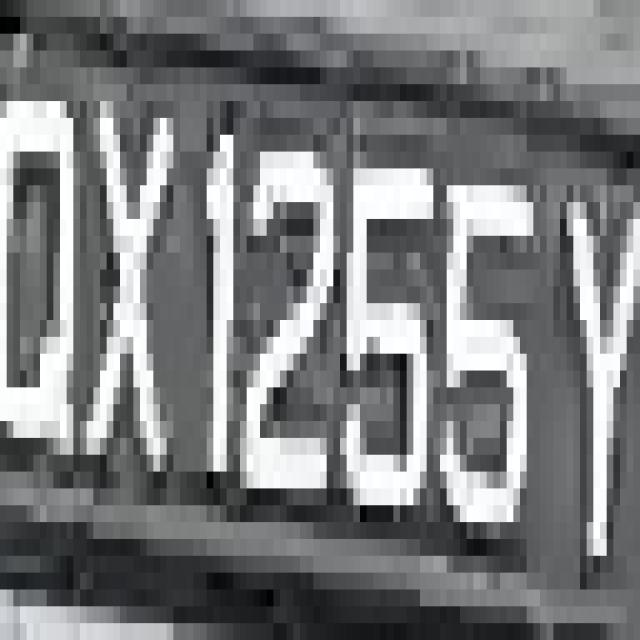1: (173, 118, 240, 505)
2: (227, 101, 353, 573)
5: (320, 101, 447, 522), (420, 135, 540, 572)
Q: (0, 17, 80, 522)
X: (67, 51, 193, 522)
Y: (533, 118, 640, 556)
